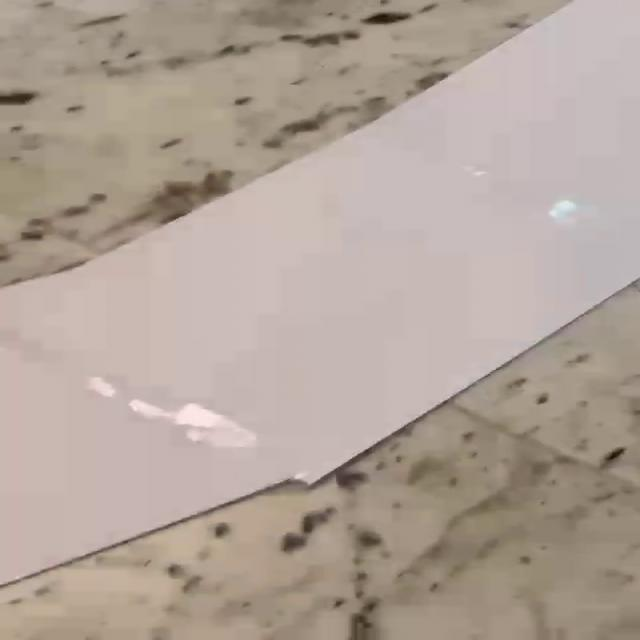road: (3, 0, 639, 583)
